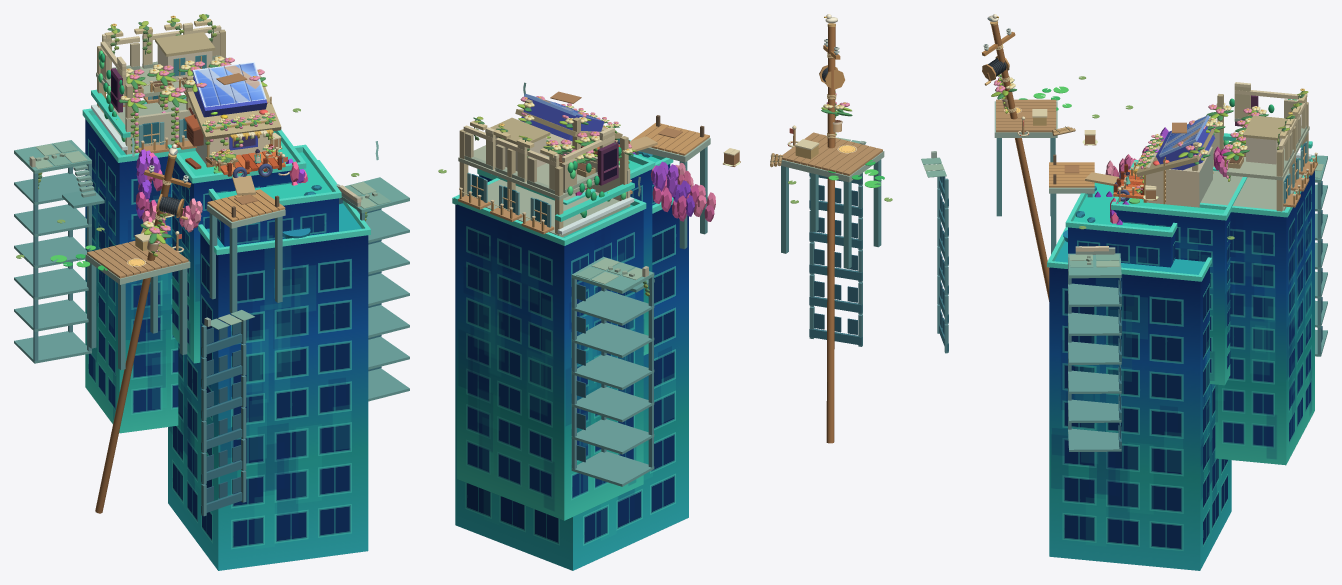
The model's file is zone1_home_harbor.glb.
The picture shows the model from 3 angles, left to right: view 1: azimuth 30°, elevation 25°; view 2: azimuth 150°, elevation 25°; view 3: azimuth 270°, elevation 25°; orthographic projection. The views are drawn at different scales.
Parts seen in each view (by area): view 1: zone1_home_harbor; view 2: zone1_home_harbor; view 3: zone1_home_harbor.
Part boxes in pixels (left/top/right/bottom): zone1_home_harbor: left=14, top=14, right=409, bottom=570; zone1_home_harbor: left=438, top=14, right=892, bottom=570; zone1_home_harbor: left=921, top=14, right=1327, bottom=570.
Bounding box in the file's own units: 35.68 × 42.69 × 35.58.
Materials: 9 (3 with a texture image).
